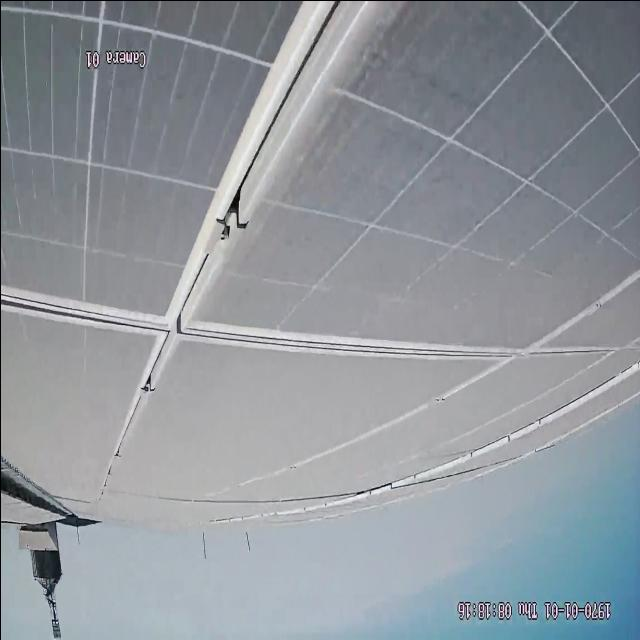interior panel: (5, 0, 511, 477)
